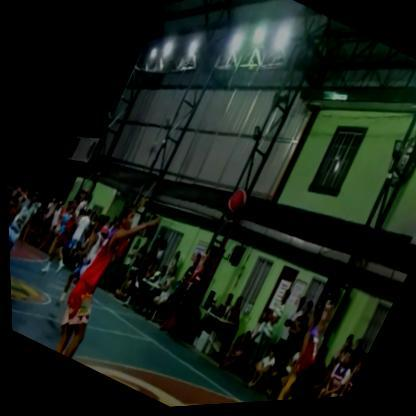basketball: (214, 183, 254, 231)
